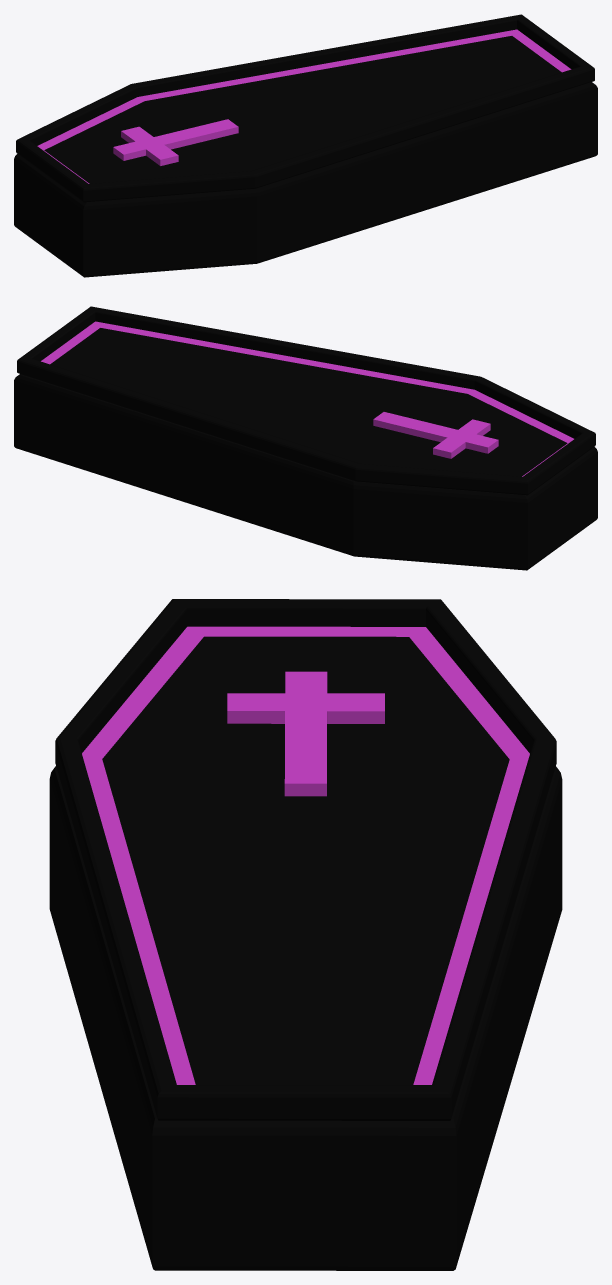
File: coffin.fbx
The picture shows the model from 3 angles, top to bottom: view 1: azimuth 30°, elevation 25°; view 2: azimuth 150°, elevation 25°; view 3: azimuth 270°, elevation 25°; orthographic projection. The views are drawn at different scales.
Parts seen in each view (by area): view 1: lid, body; view 2: lid, body; view 3: lid, body.
Boxes of the visible parts, box(x1,y1,x2,y2) form: lid: box(16, 14, 594, 202); body: box(14, 82, 597, 277); lid: box(17, 306, 595, 495); body: box(14, 374, 597, 570); lid: box(55, 599, 556, 1120); body: box(49, 766, 562, 1270).
Bounding box in the file's own units: 179 × 29.88 × 77.91.
